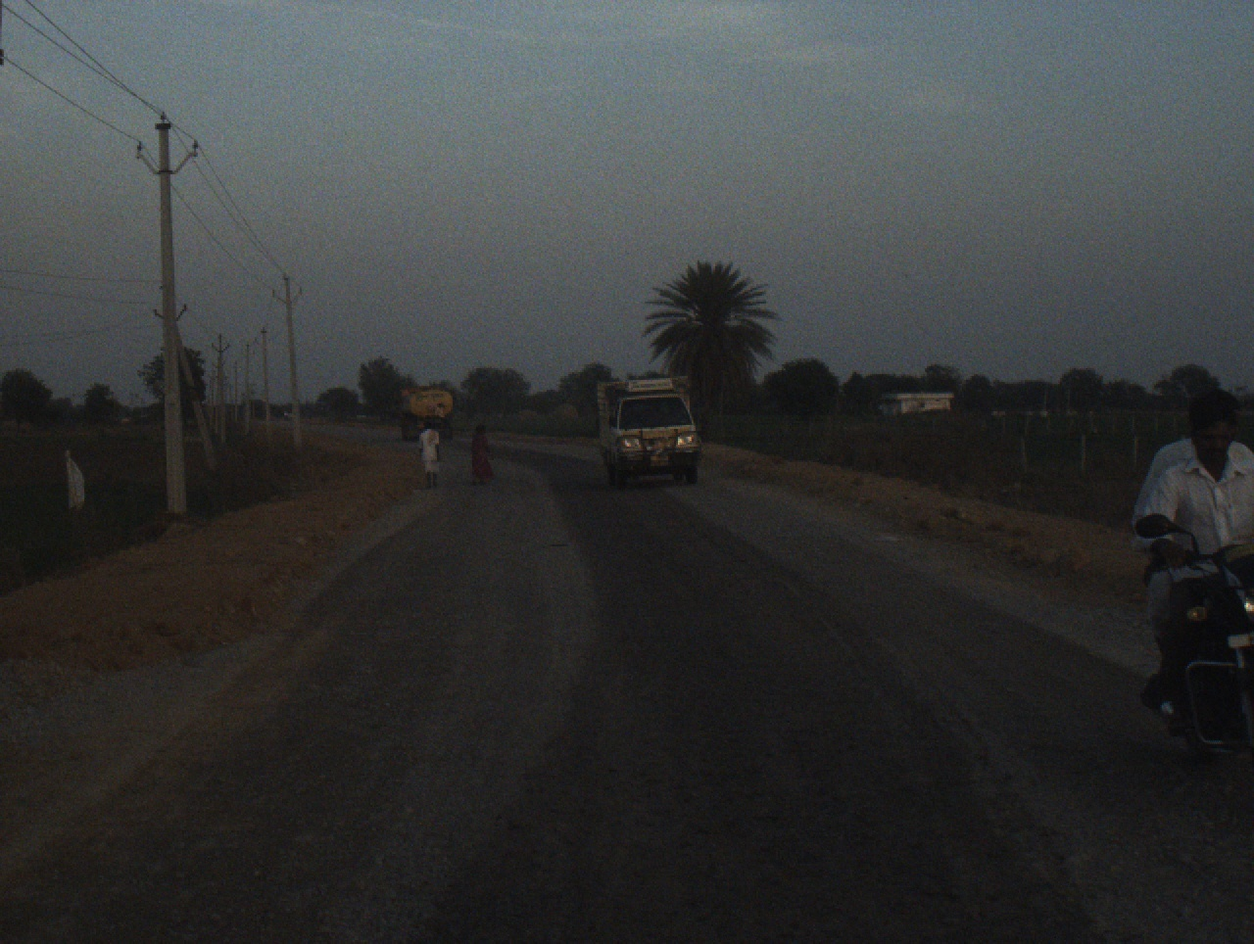motorcycle: (1131, 505, 1254, 817)
person: (415, 416, 446, 490), (468, 416, 494, 479)
rider: (1137, 396, 1254, 738), (1133, 388, 1247, 693)
truck: (585, 370, 706, 485), (390, 379, 455, 444)
